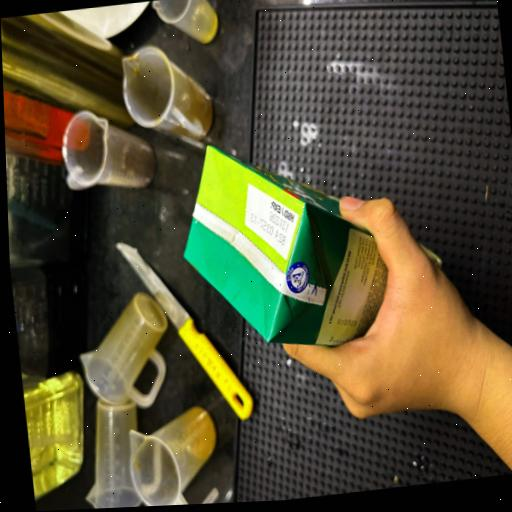sua_dac: (184, 146, 387, 345)
